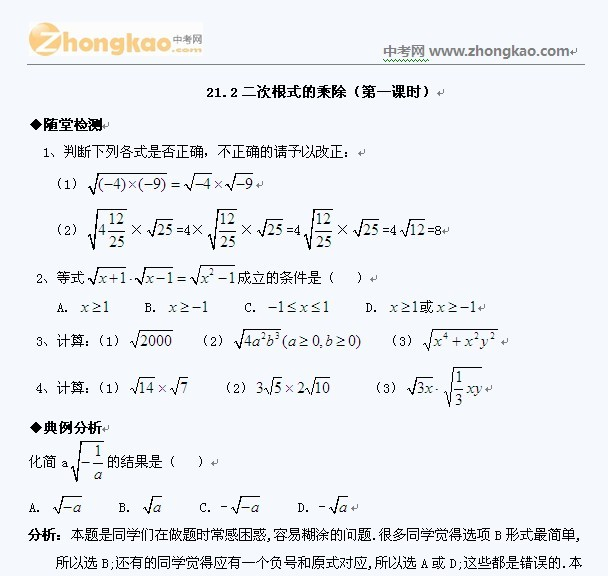cube: (270, 331, 282, 341)
division: (218, 226, 239, 237), (105, 228, 128, 237), (311, 228, 333, 235), (91, 458, 104, 467), (452, 388, 465, 394)
sqrt: (424, 326, 499, 355), (87, 170, 167, 196), (444, 363, 485, 413), (84, 207, 127, 252), (71, 437, 106, 482), (190, 260, 236, 291), (305, 207, 337, 250), (132, 323, 176, 354), (238, 325, 283, 352), (211, 207, 239, 250), (224, 170, 261, 200), (89, 263, 129, 287), (135, 265, 176, 288), (50, 493, 86, 519), (181, 170, 213, 197), (232, 488, 260, 517), (408, 374, 438, 400), (258, 214, 286, 241), (140, 493, 169, 519), (402, 215, 428, 242), (131, 373, 159, 398), (149, 214, 174, 241), (352, 217, 382, 239), (330, 490, 350, 520), (306, 375, 330, 398), (169, 373, 190, 398), (264, 376, 282, 398)
square: (485, 331, 498, 340), (257, 331, 266, 343), (206, 266, 215, 278), (472, 330, 480, 341)
